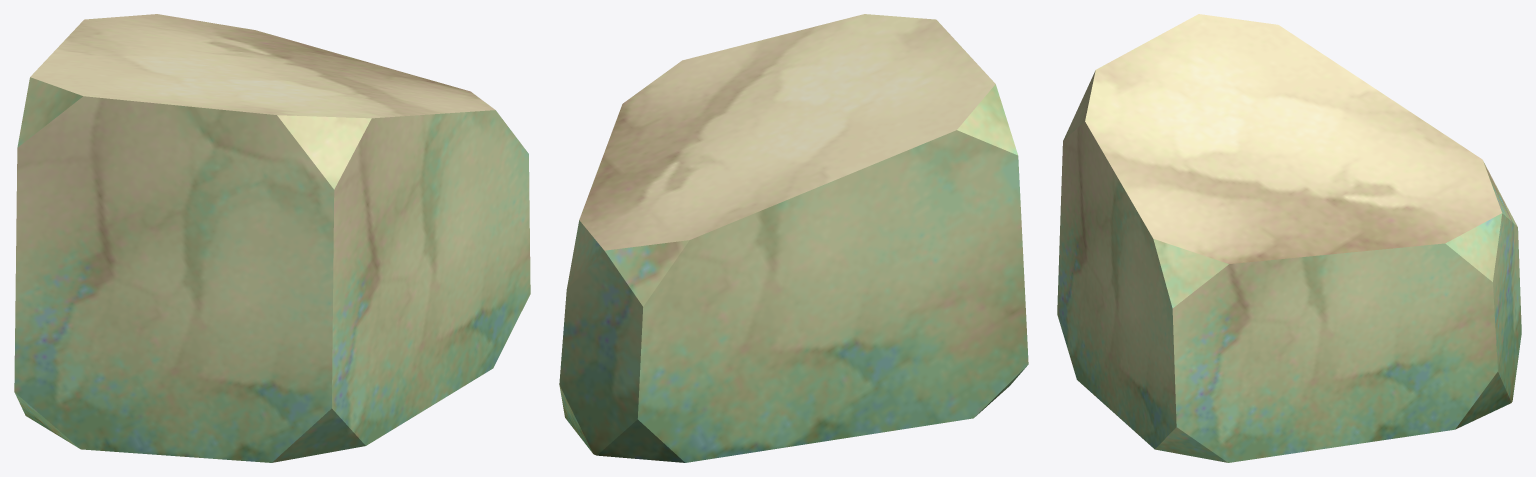
File: weaponProjectile-Stone1.glb
3 renders of one model, left to right at view 1: azimuth 30°, elevation 25°; view 2: azimuth 150°, elevation 25°; view 3: azimuth 270°, elevation 25°, orthographic. The views are drawn at different scales.
Visible parts, largest first — view 1: stoneProjectile1; view 2: stoneProjectile1; view 3: stoneProjectile1.
Boxes of the visible parts, x1,y1,x2,y2 form: stoneProjectile1: (14, 14, 530, 462); stoneProjectile1: (559, 14, 1028, 462); stoneProjectile1: (1057, 14, 1521, 462).
Size of the model in its own units: 0.1841 by 0.125 by 0.1862.
1 material, 1 textured.
